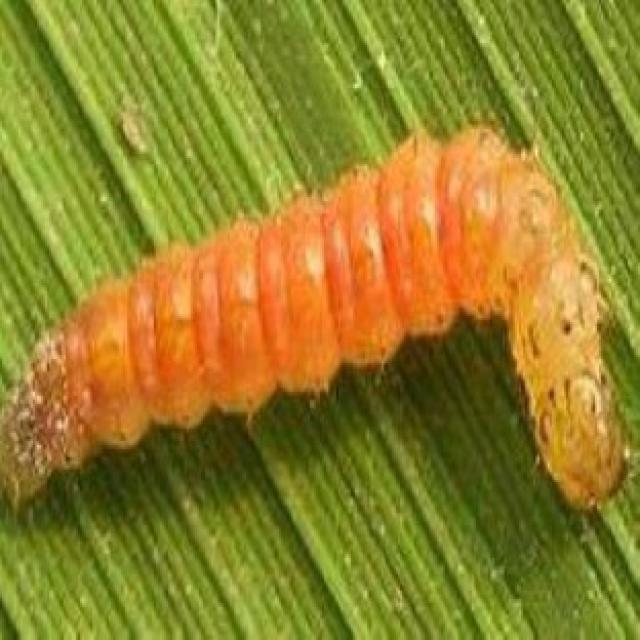rice leaf roller: (0, 125, 622, 503)
